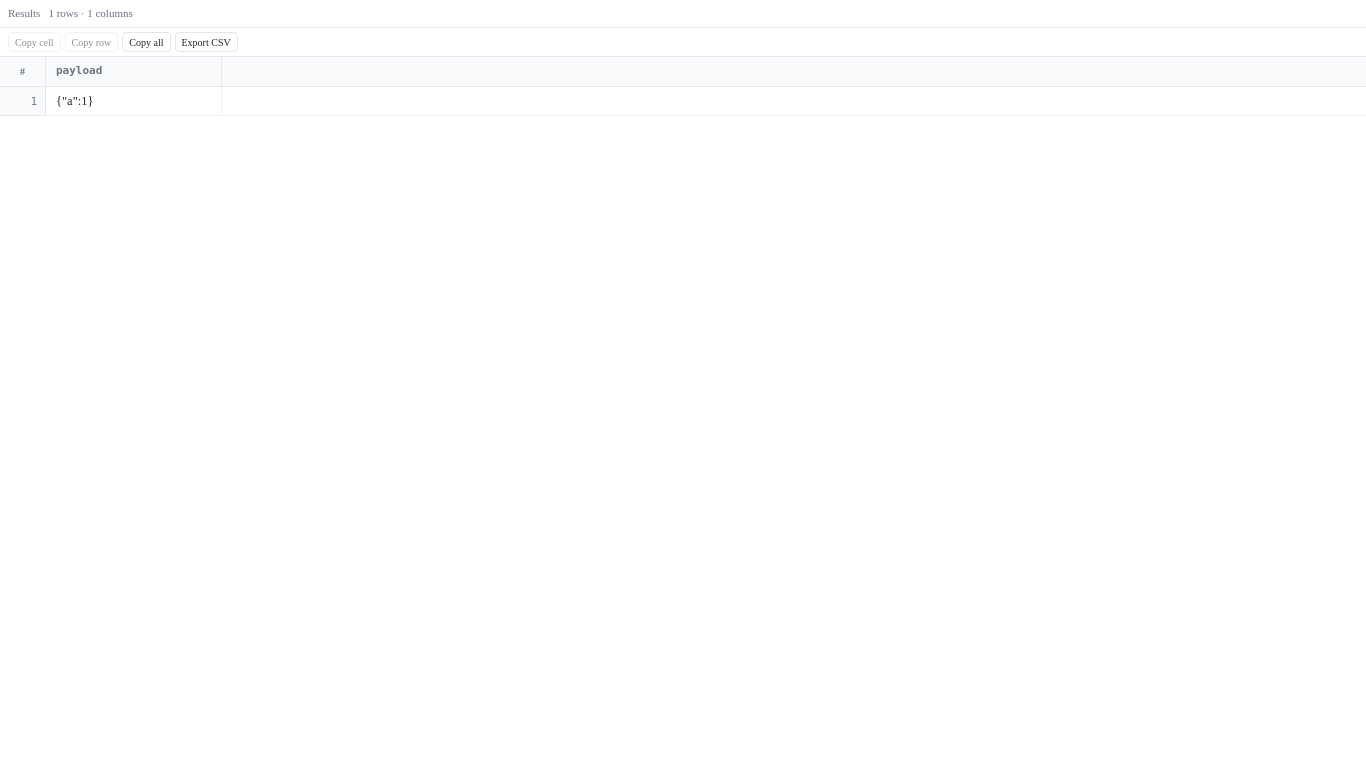
ResultsPanel › opens the value viewer when a cell is activated
Double-click the text "{\"a\":1}".
double_click(75, 101)  # box [56, 94, 94, 108]
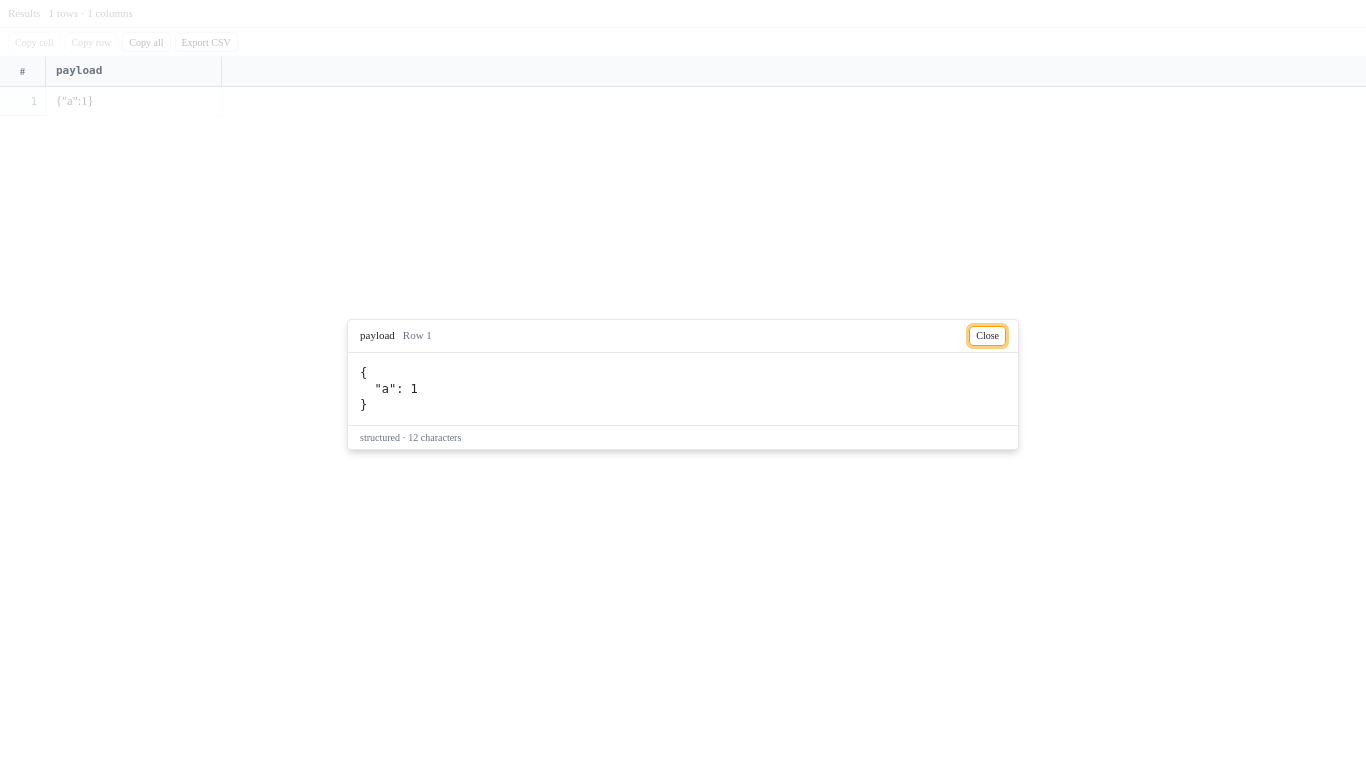
Expected: the text with test id "value-viewer-text" shows "\"a\": 1", [360, 366, 418, 412]
